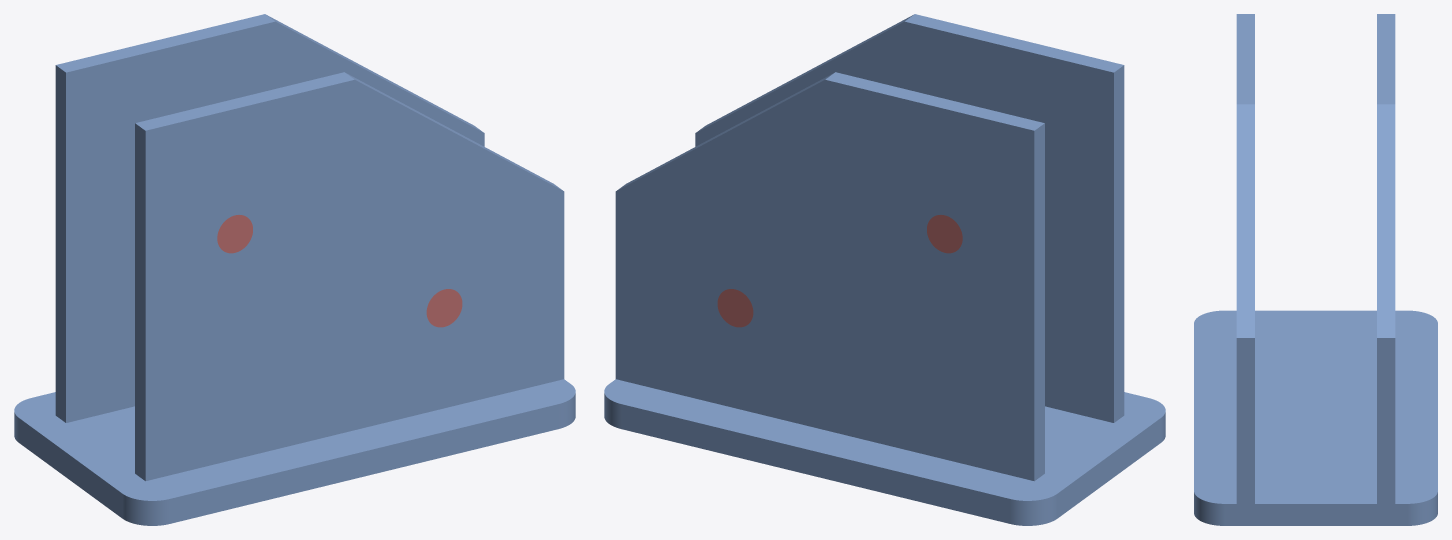
Rendered from step_03.glb.
3 renders of one model, left to right at view 1: azimuth 30°, elevation 25°; view 2: azimuth 150°, elevation 25°; view 3: azimuth 270°, elevation 25°, orthographic. The views are drawn at different scales.
Visible parts, largest first — view 1: part__base, removed__base; view 2: part__base, removed__base; view 3: part__base.
Part boxes in pixels (box(x1,y1,x2,y2)): part__base: box(14, 14, 575, 525); removed__base: box(217, 215, 462, 327); part__base: box(604, 14, 1165, 525); removed__base: box(717, 215, 962, 327); part__base: box(1194, 14, 1437, 525).
Bounding box in the file's own units: 75 × 60 × 40.
